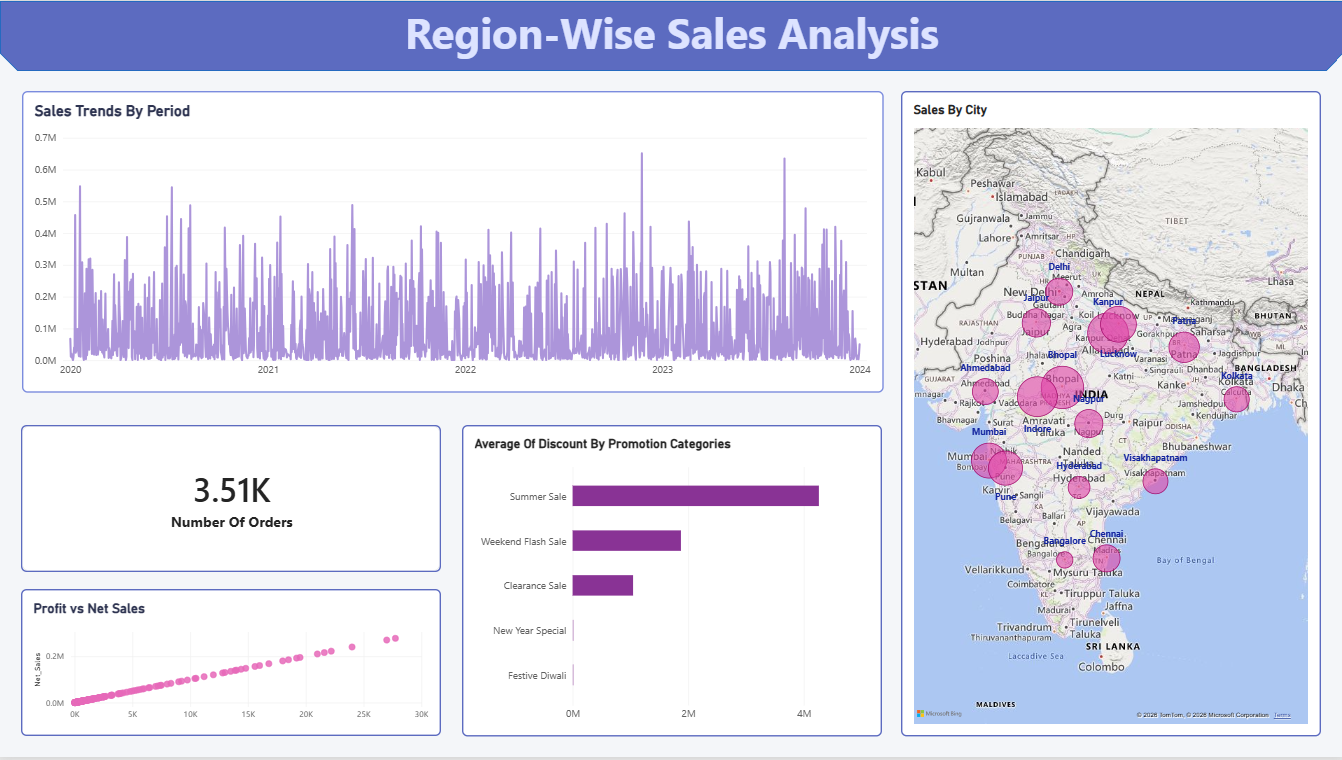

This screenshot's page, from the dashboard's own definition file:
{"tool":"powerbi","page":{"name":"Region-Wise Sales Analysis","canvas":[1920,1080],"ordinal":1},"visuals":[{"type":"shape","box":[0,0,1920,100],"z":0},{"type":"scatterChart","title":"Profit vs Net Sales","fields":{"X":["Fact_Table.Profit"],"Y":["Fact_Table.Net_Sales"]},"box":[30,840,600,210],"z":1000},{"type":"lineChart","title":"Sales Trends By Period","fields":{"Category":["Fact_Table.Date (dd/mm/yyyy).Variation.Date Hierarchy.Year"],"Y":["Sum(Fact_Table.Net_Sales)"]},"box":[30.8,128.5,1230.6,430.7],"z":2000},{"type":"barChart","title":"Average Of Discount By Promotion Categories","fields":{"Category":["Dim Promotion.Promotion Name"],"Y":["Sum(Fact_Table.Discount_Value)"]},"box":[660,605,600,445],"z":3000},{"type":"map","title":"Sales By City","fields":{"Category":["Dim Customers.City"],"Size":["Sum(Fact_Table.Net_Sales)"]},"box":[1286.7,128.3,600,921.7],"z":4000},{"type":"cardVisual","fields":{"Data":["CountNonNull(Fact_Table.Order_ID)"]},"box":[30,605,600,210],"z":5000}]}

Visuals, with their boxes in screenshot pixels (x1, y1, x2, y2), scaled from the page's 1920x1080 canvas onto the 1342x760 screenshot:
shape: [x1=0, y1=0, x2=1341, y2=70]
"Profit vs Net Sales" scatterChart: [x1=21, y1=591, x2=440, y2=739]
"Sales Trends By Period" lineChart: [x1=22, y1=90, x2=882, y2=394]
"Average Of Discount By Promotion Categories" barChart: [x1=461, y1=426, x2=881, y2=739]
"Sales By City" map: [x1=899, y1=90, x2=1319, y2=739]
cardVisual - CountNonNull(Fact_Table.Order_ID): [x1=21, y1=426, x2=440, y2=574]
